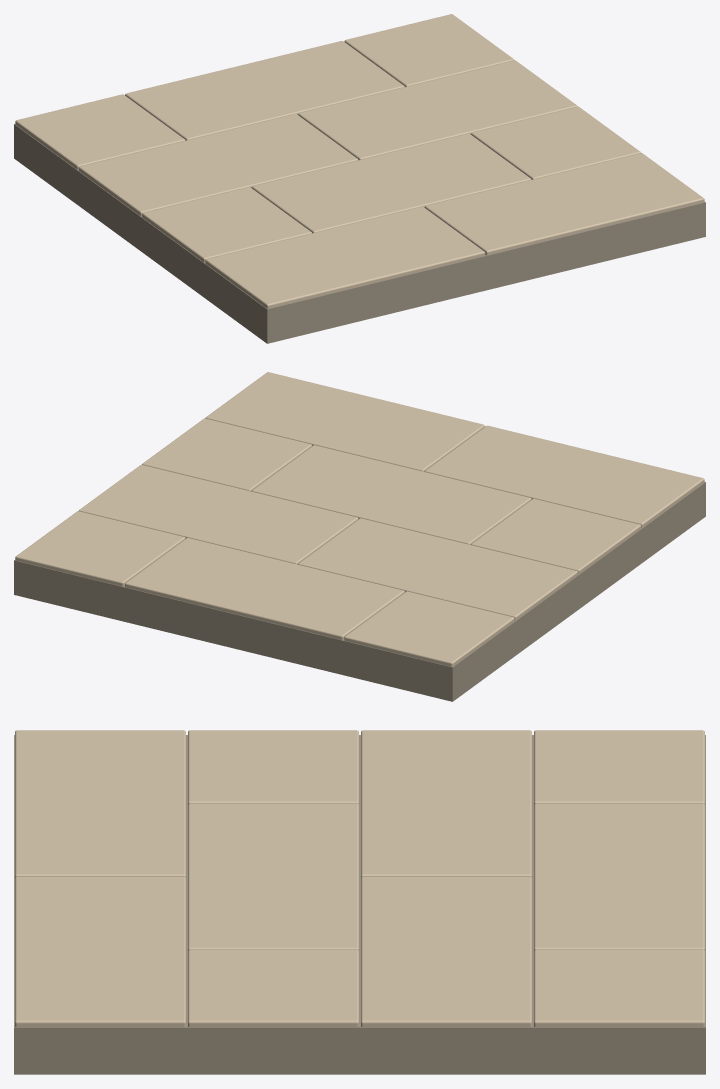
Rendered from PavingA_2m.fbx.
3 views of the same model, one above another, from view 1: azimuth 30°, elevation 25°; view 2: azimuth 150°, elevation 25°; view 3: azimuth 270°, elevation 25° (orthographic). The views are drawn at different scales.
Parts seen in each view (by area): view 1: PavingA_2m.001; view 2: PavingA_2m.001; view 3: PavingA_2m.001.
Boxes of the visible parts, left/top/right/bottom form: PavingA_2m.001: left=14, top=14, right=705, bottom=343; PavingA_2m.001: left=14, top=372, right=705, bottom=701; PavingA_2m.001: left=14, top=730, right=705, bottom=1074.
Bounding box in the file's own units: 2 × 0.168 × 2.
